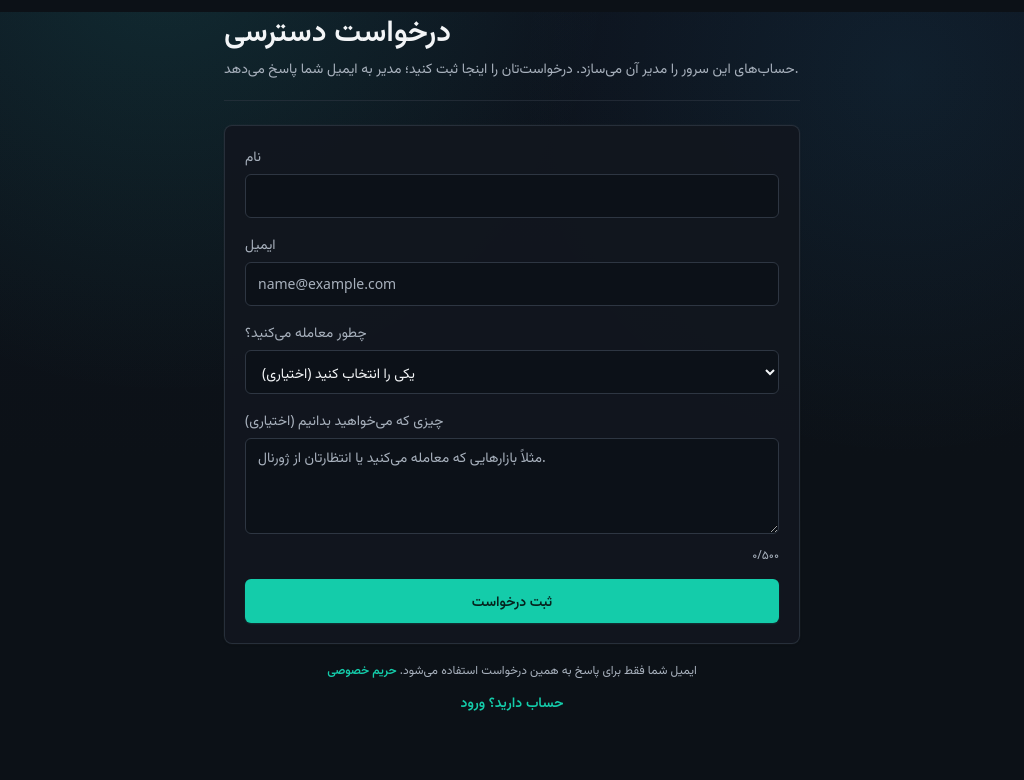
Test: the request-access page in the closed mode (fa) › promises no invite code, before or after the request is sent, and has no sign-up link
In the field labelled "نام": (512, 196) [245, 174, 779, 218], type "Sara"
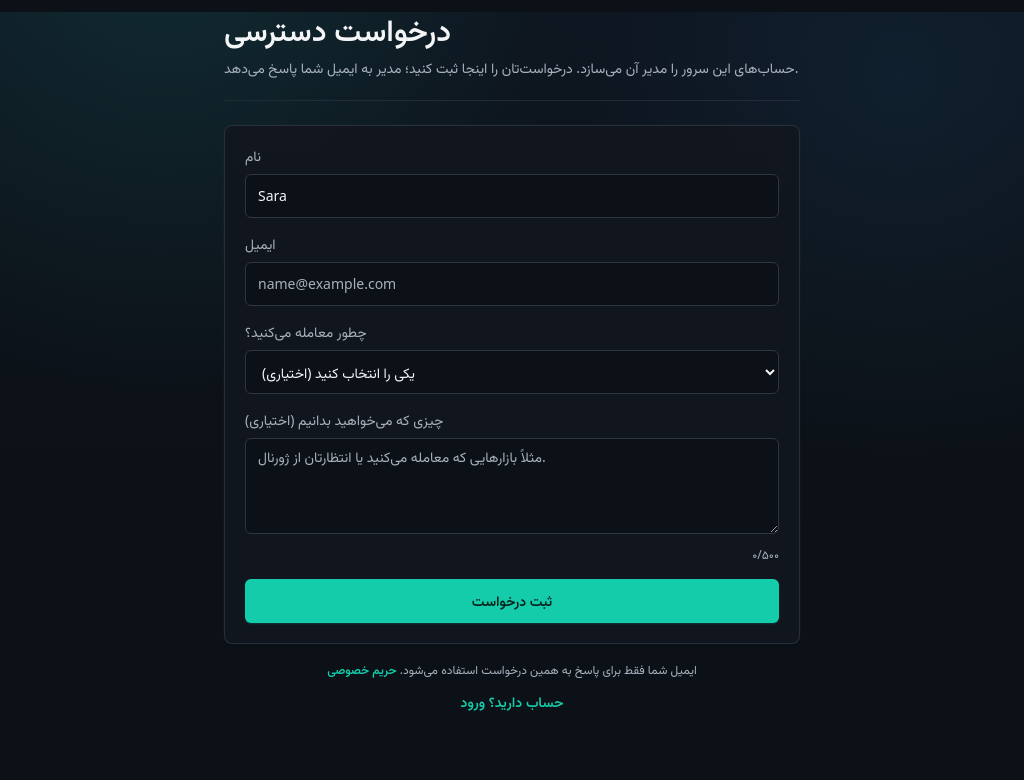
In the field labelled "ایمیل": (512, 284) [245, 262, 779, 306], type "sara@example.com"
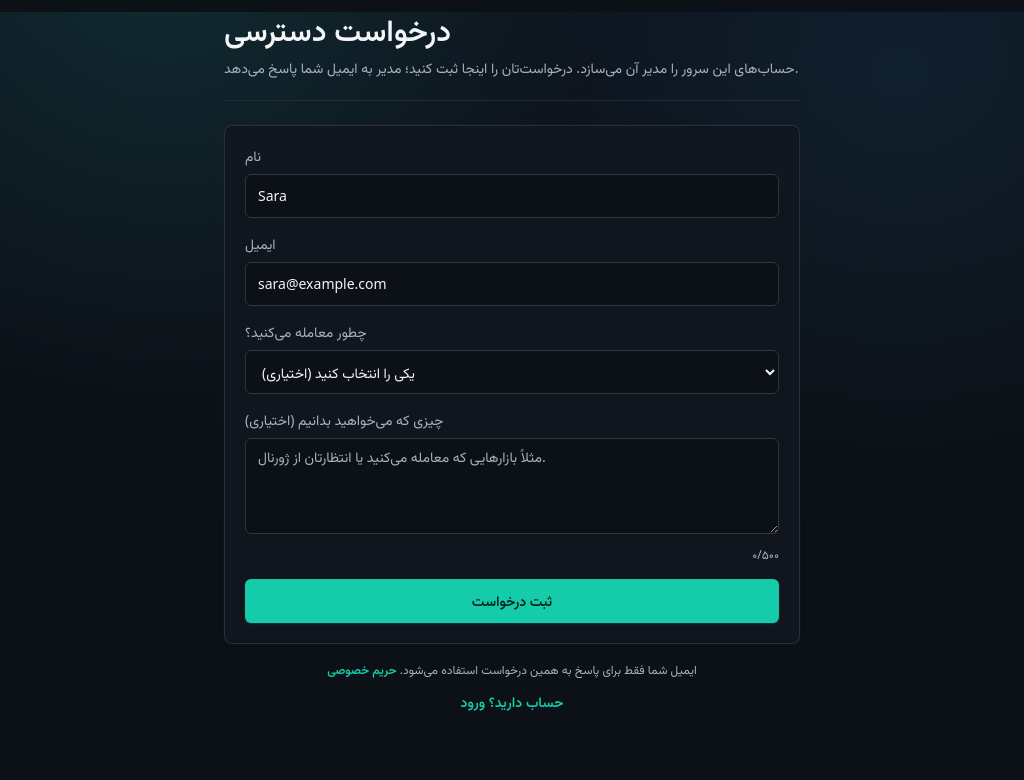
Click the button "ثبت درخواست": (512, 601) [245, 579, 779, 623]
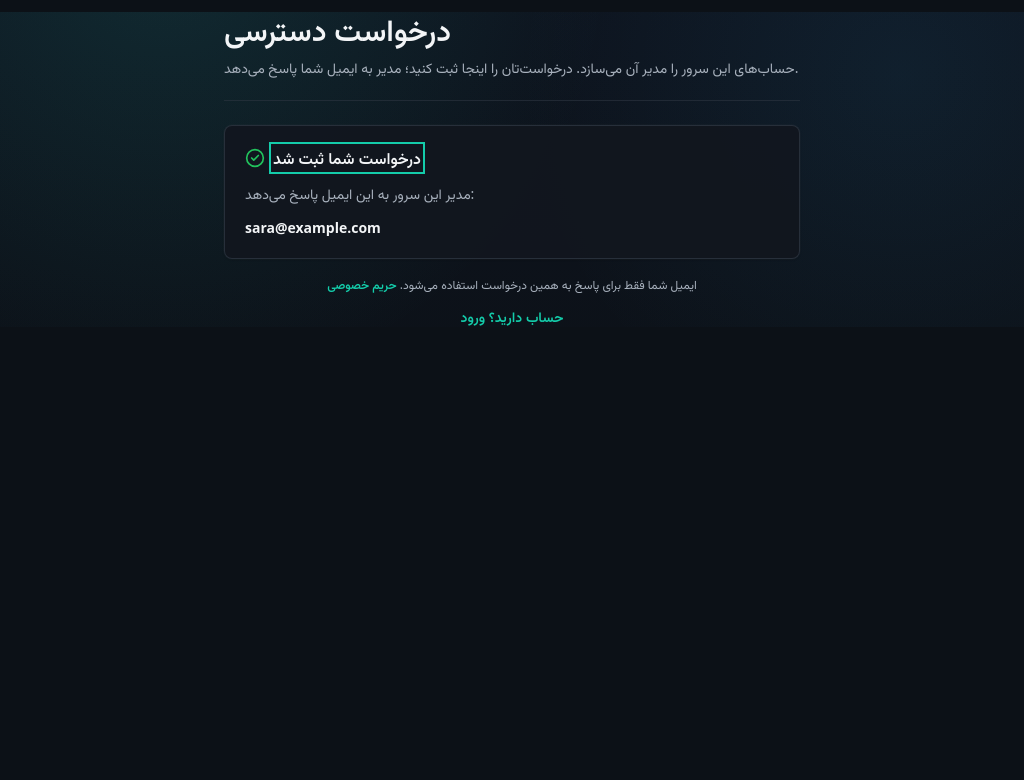
Now the text "مدیر این سرور به این ایمیل پاسخ می‌دهد:" is shown, box [245, 184, 474, 203]
